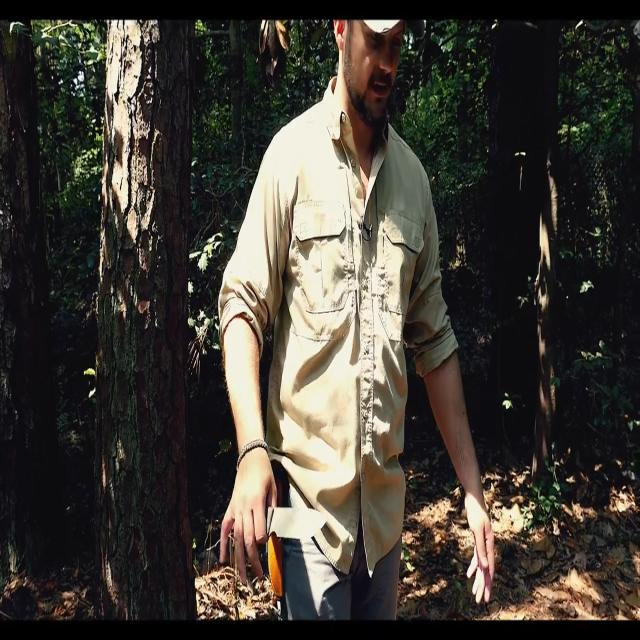knife: (264, 503, 332, 546)
